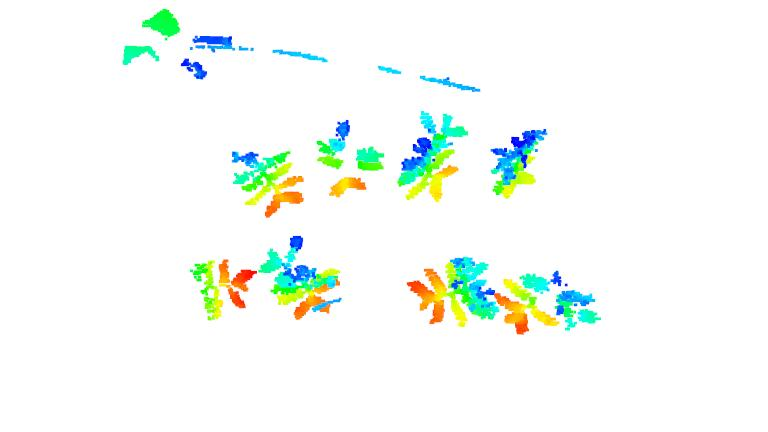chickpea: (259, 234, 343, 321), (492, 271, 603, 336), (403, 257, 500, 327), (396, 111, 469, 202), (310, 118, 386, 197), (230, 149, 306, 217), (189, 255, 257, 322), (487, 126, 551, 197)
